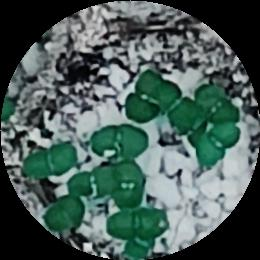Basil: (173, 87, 223, 132), (200, 112, 241, 164), (103, 205, 164, 239), (90, 123, 151, 156), (24, 143, 75, 180), (112, 159, 148, 205), (125, 73, 162, 113), (70, 164, 114, 194), (43, 199, 84, 231), (126, 225, 157, 260)
